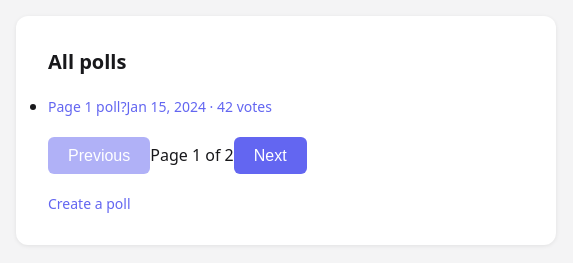
Test case: ListPollsView › fetches the next page when Next is clicked
expect the text "Page 1 poll?" is shown: met, box [48,97,126,116]
Click the button "Next". click: [270, 156]
box: [234,137,307,174]
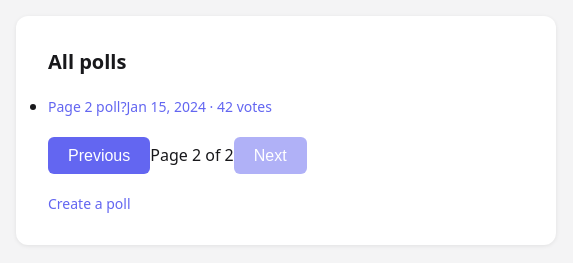
expect the text "Page 2 poll?" is shown: met, box [48,97,126,116]
